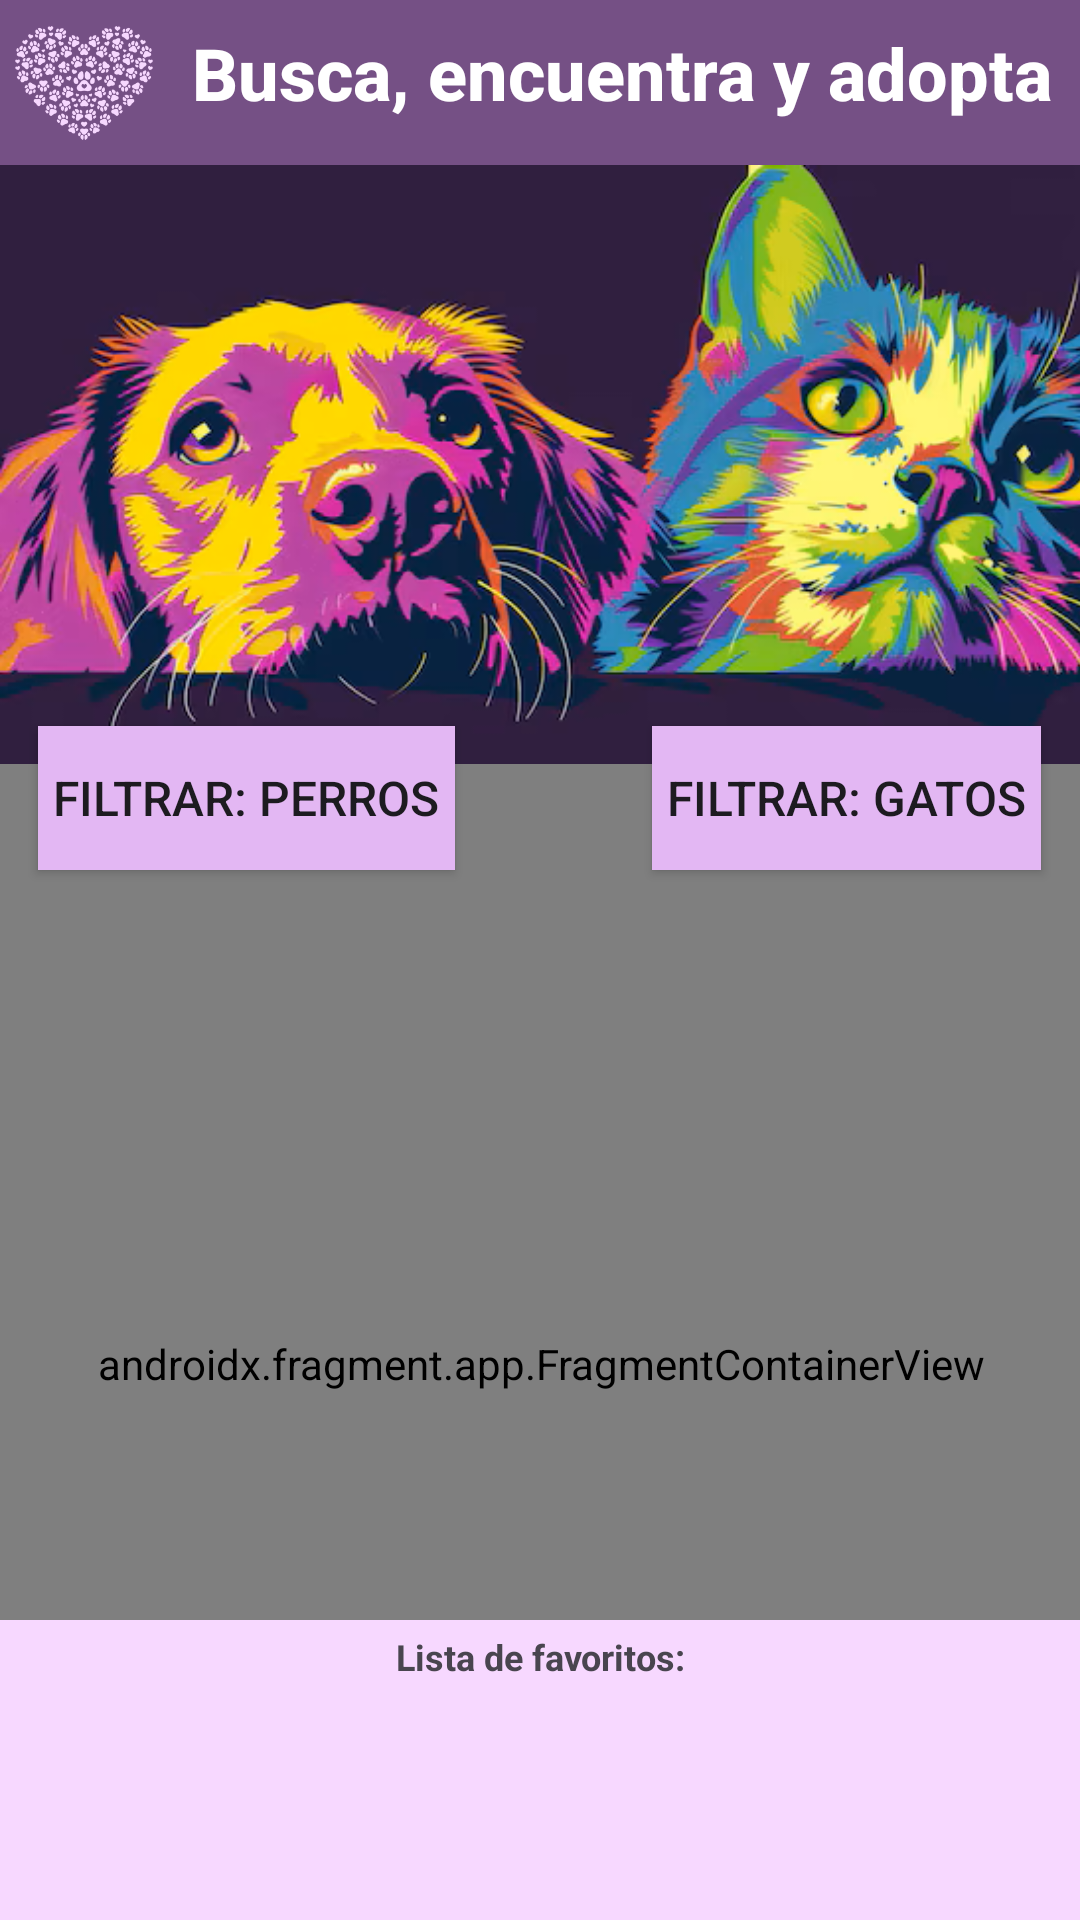

Icons on this 1080x1920 Android screen, each with the point to tap as (x,y):
Icono de huellas animales: (84,83)
